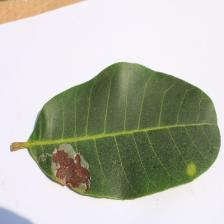leaf miner: (10, 60, 221, 200)
